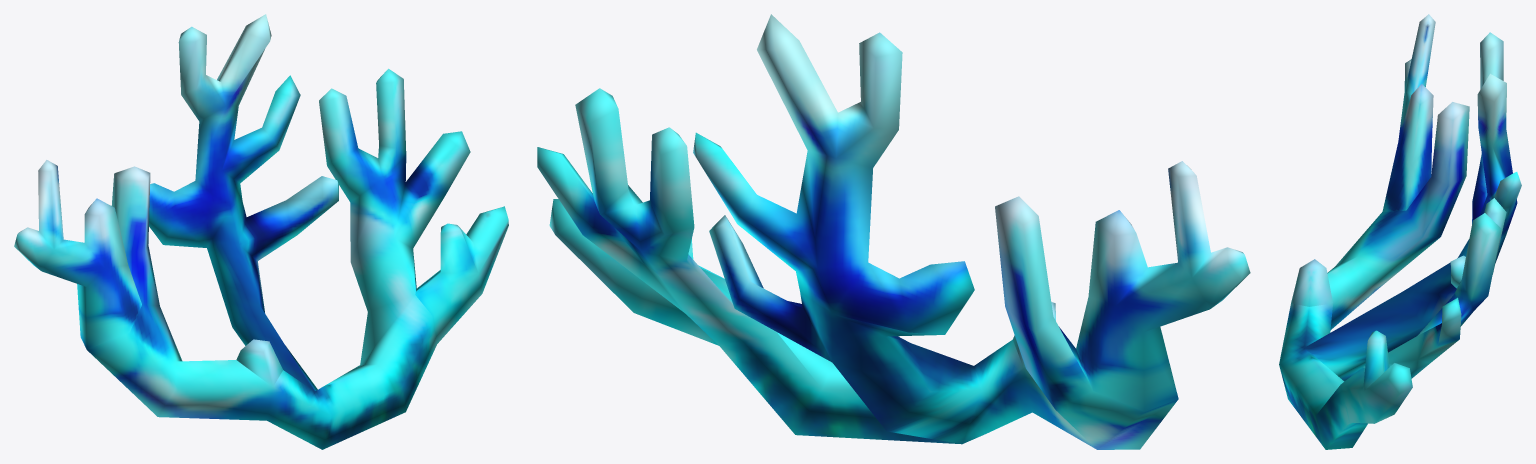
Rendered from Sea_shanhu02.FBX.
3 views of the same model, side by side, from view 1: azimuth 30°, elevation 25°; view 2: azimuth 150°, elevation 25°; view 3: azimuth 270°, elevation 25° (orthographic). The views are drawn at different scales.
Visible parts, largest first — view 1: shanhu02; view 2: shanhu02; view 3: shanhu02.
Boxes of the visible parts, x1,y1,x2,y2 form: shanhu02: [14, 14, 508, 449]; shanhu02: [537, 14, 1250, 449]; shanhu02: [1279, 14, 1521, 449].
Size of the model in its own units: 71.18 by 50.18 by 31.18.
